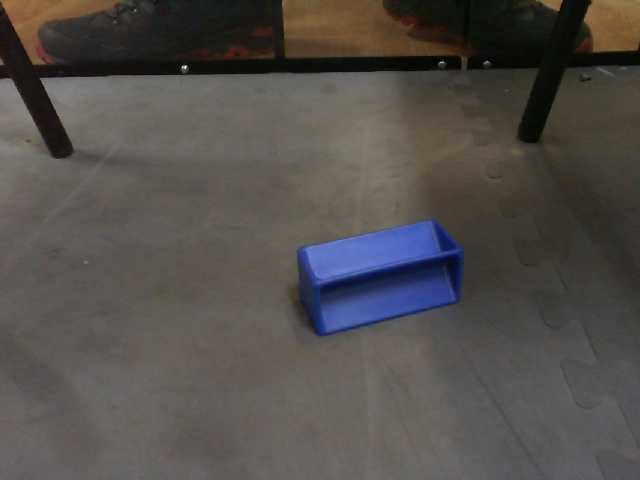BlueSample: (290, 218, 468, 338)
